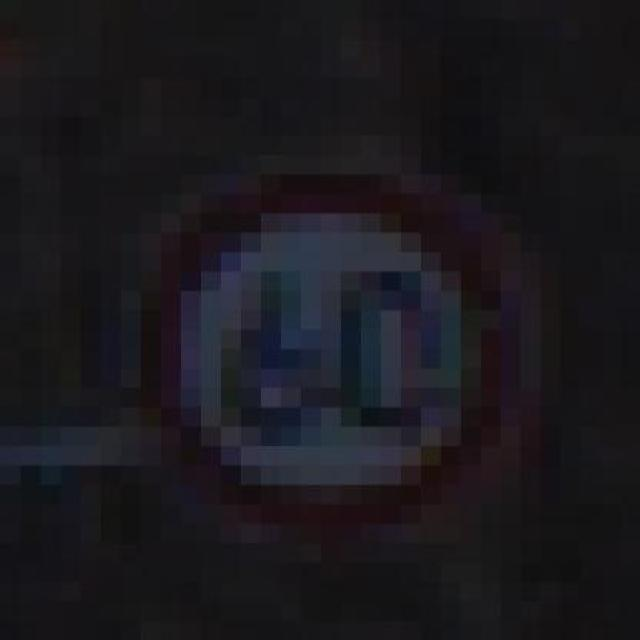forb_speed_over_60: (142, 172, 513, 530)
